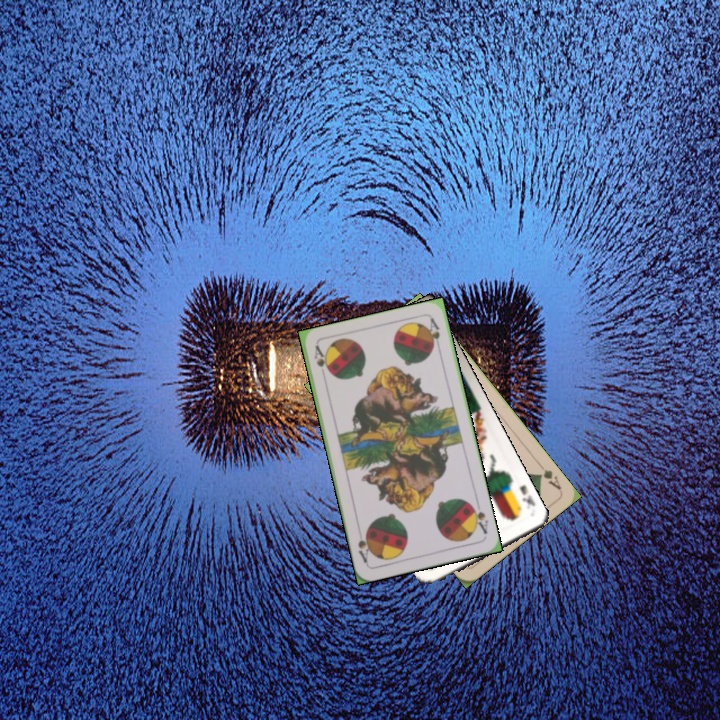EK: (516, 481, 538, 509)
GA: (534, 458, 564, 492)
SA: (466, 498, 491, 537), (310, 342, 331, 375)
